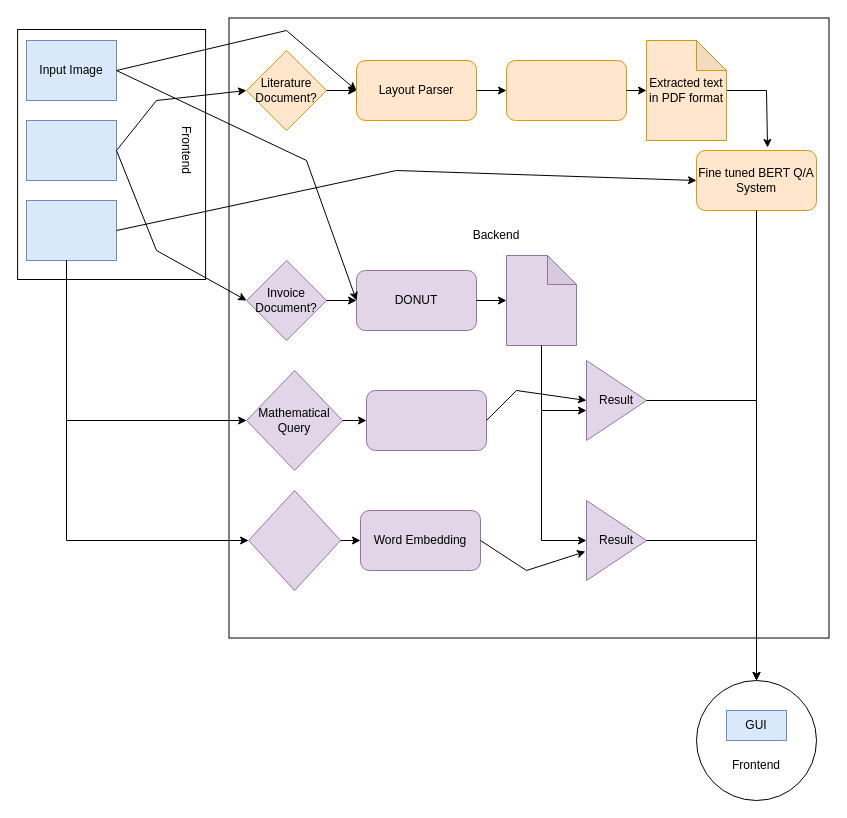
The diagram is 847 pixels wide and 818 high, and some of its shapes have lost their labels. Here are the shapes that lost their labels. From the top down, the box of each, then its label:
(506, 60, 626, 120): Tesseract OCR
(26, 120, 116, 180): Document type
(26, 200, 116, 260): User Query
(506, 254, 576, 346): Extracted text JSON
(366, 390, 486, 450): NER (Named Entity Recognition)
(248, 490, 341, 590): Normal Query
